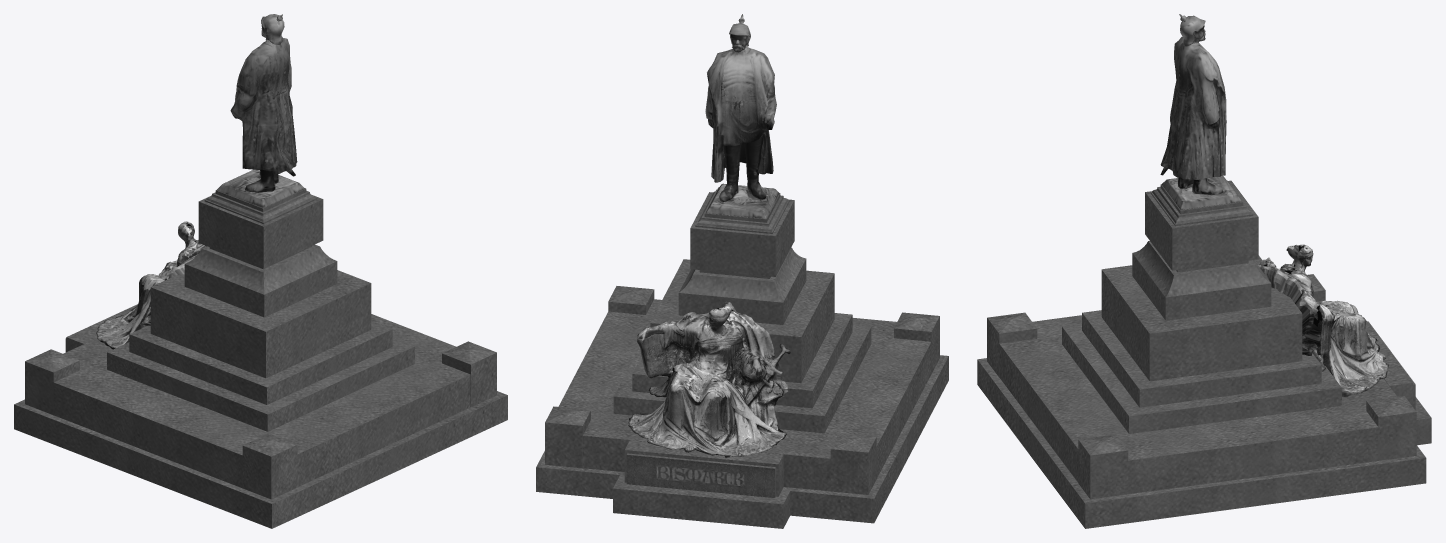
Rendered from Old_Bismarck_Denkmal.FBX.
3 renders of one model, left to right at view 1: azimuth 30°, elevation 25°; view 2: azimuth 150°, elevation 25°; view 3: azimuth 270°, elevation 25°, orthographic. The views are drawn at different scales.
Visible parts, largest first — view 1: Bism_B001, Bism_A001, Bism_F001, Bismarck_002, Bism_D001, Bism_C001, Bism_E001, Bism_I001, Bism_G001, Bism_H002, Muse_low_poly001, Bism_H003 (+1 smaller); view 2: Bism_B001, Muse_low_poly001, Bismarck_002, Bism_A001, Bism_C001, Box1137, Bism_F001, Bism_D001, Bism_I001, engraved_text001, Bism_E001, Bism_H002 (+3 smaller); view 3: Bism_B001, Bism_A001, Bism_F001, Bismarck_002, Bism_D001, Muse_low_poly001, Bism_C001, Bism_E001, Bism_I001, Bism_G001, Bism_H002, Bism_H003 (+2 smaller).
Part boxes in pixels (x1,y1,x2,y2): Bism_B001: (53,314,470,488); Bism_A001: (14,391,507,528); Bism_F001: (150,270,371,378); Bismarck_002: (217,14,304,207); Bism_D001: (107,338,414,431); Bism_C001: (25,341,496,499); Bism_E001: (129,321,392,404); Bism_I001: (198,196,323,267); Bism_G001: (184,261,337,317); Bism_H002: (185,244,336,294); Muse_low_poly001: (96,221,206,349); Bism_H003: (204,188,317,223); Bism_B001: (558,299,931,491); Muse_low_poly001: (628,301,790,457); Bismarck_002: (705,14,779,218); Bism_A001: (536,355,948,523); Bism_C001: (545,286,939,494); Box1137: (613,475,790,528); Bism_F001: (650,259,834,383); Bism_D001: (613,325,871,433); Bism_I001: (690,192,794,276); engraved_text001: (626,455,774,497); Bism_E001: (632,313,852,408); Bism_H002: (679,247,805,302); Bism_B001: (999,300,1397,494); Bism_A001: (977,358,1426,528); Bism_F001: (1101,255,1302,381); Bismarck_002: (1160,14,1241,209); Bism_D001: (1062,323,1341,433); Muse_low_poly001: (1257,244,1388,396); Bism_C001: (987,274,1416,499); Bism_E001: (1082,310,1321,407); Bism_I001: (1145,180,1258,270); Bism_G001: (1132,253,1271,320); Bism_H002: (1133,241,1270,297); Bism_H003: (1150,177,1253,226).
Size of the model in its own units: 640 by 669 by 647.
Materials: 4 (4 with a texture image).
